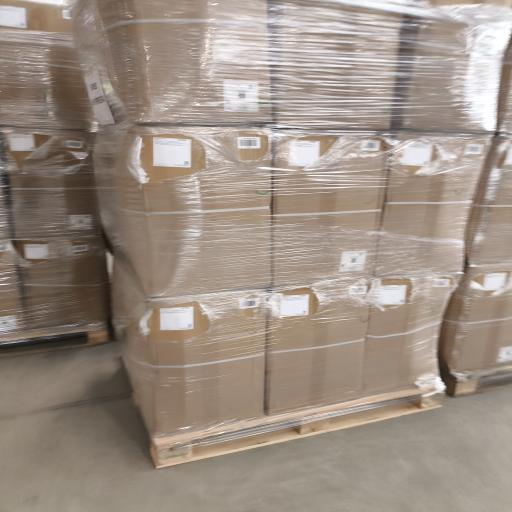pallet: (151, 389, 443, 468), (0, 326, 111, 357), (442, 369, 511, 397)
